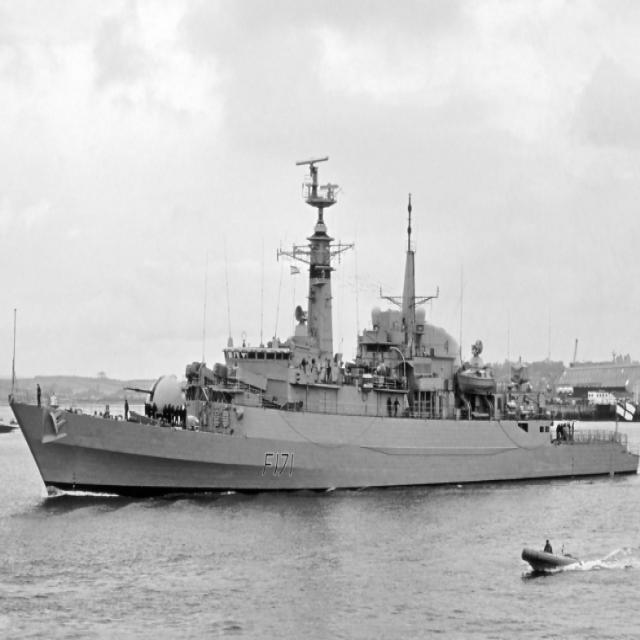Fragata: (6, 150, 640, 509)
